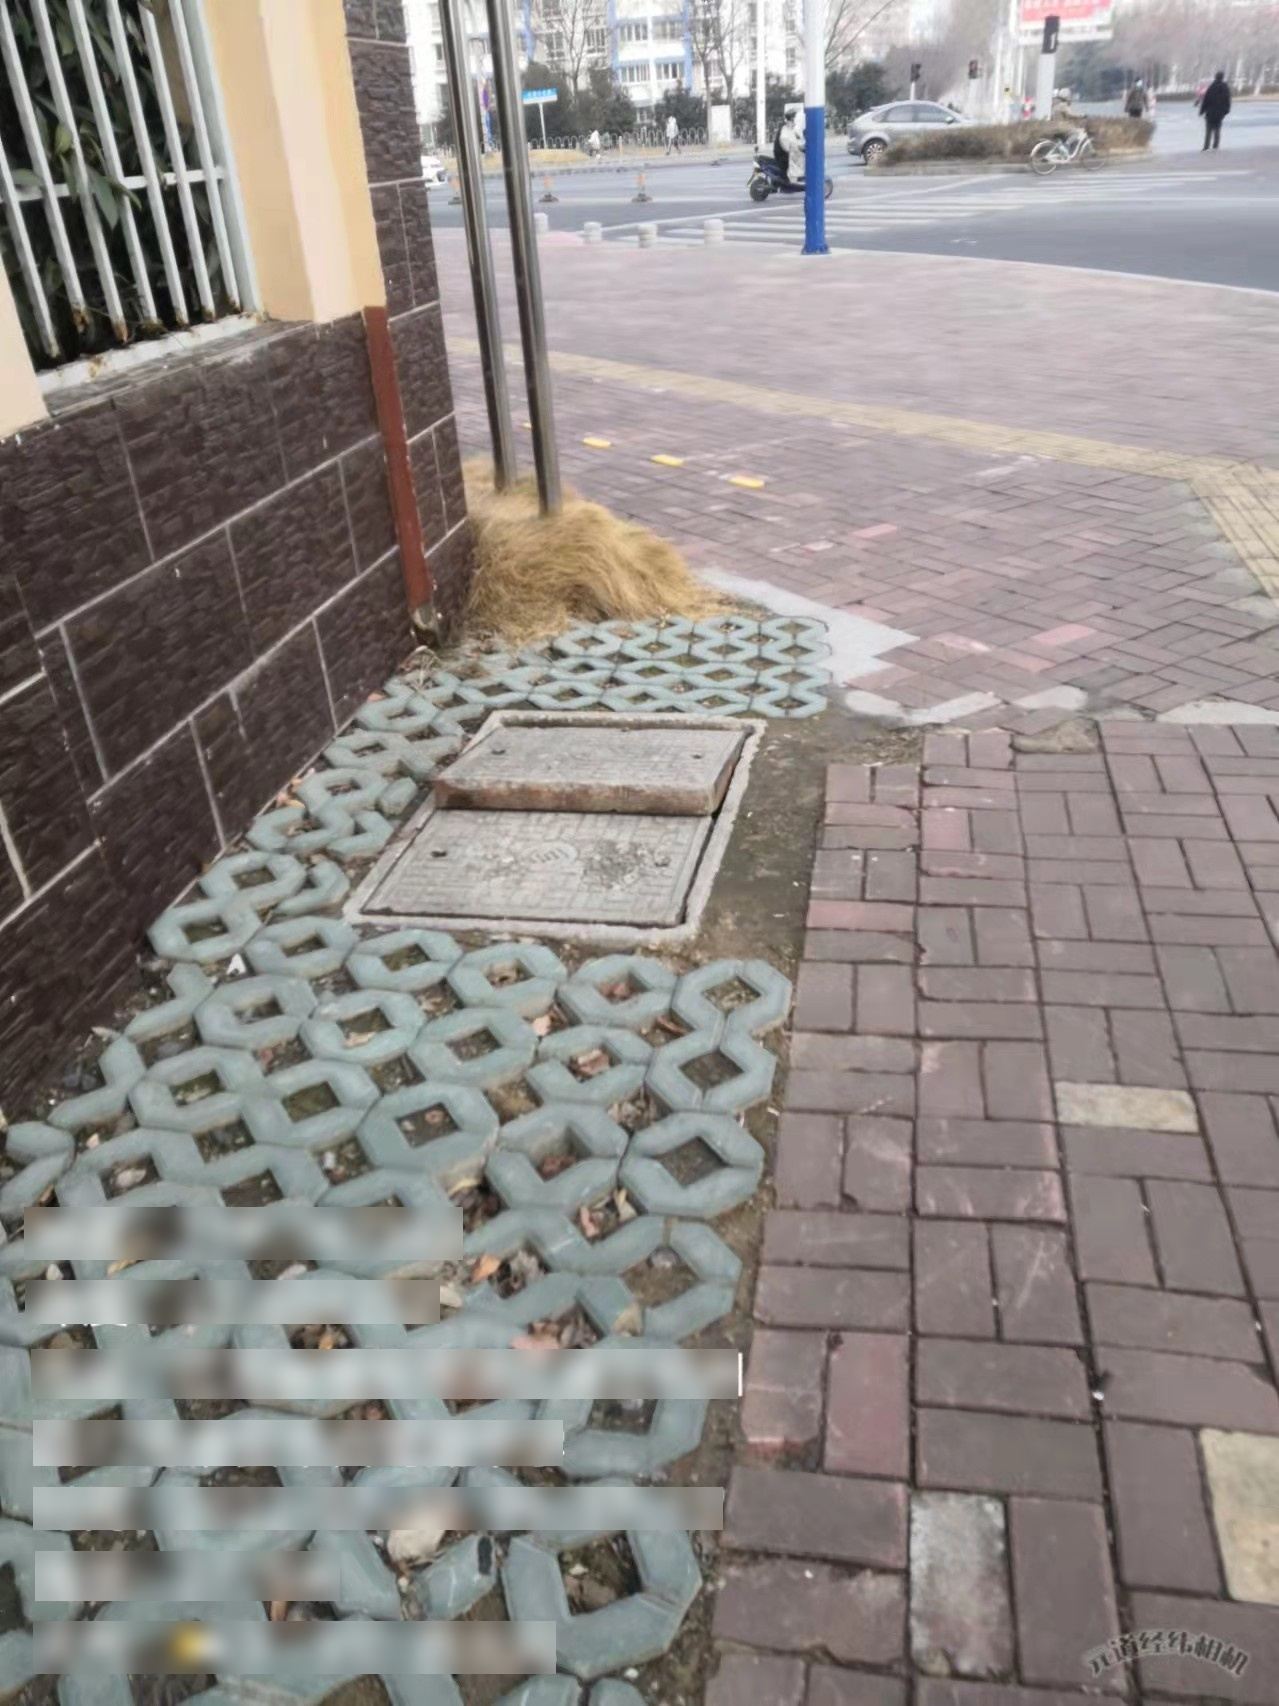well: (339, 709, 767, 934)
